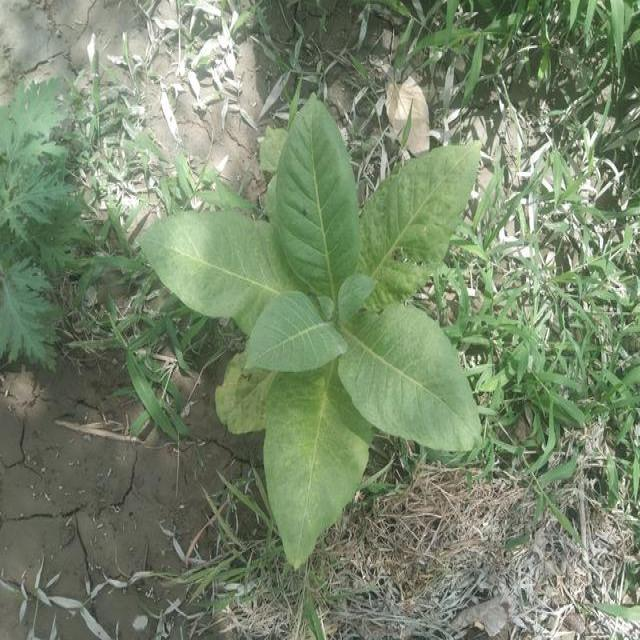crop: (155, 102, 482, 560)
